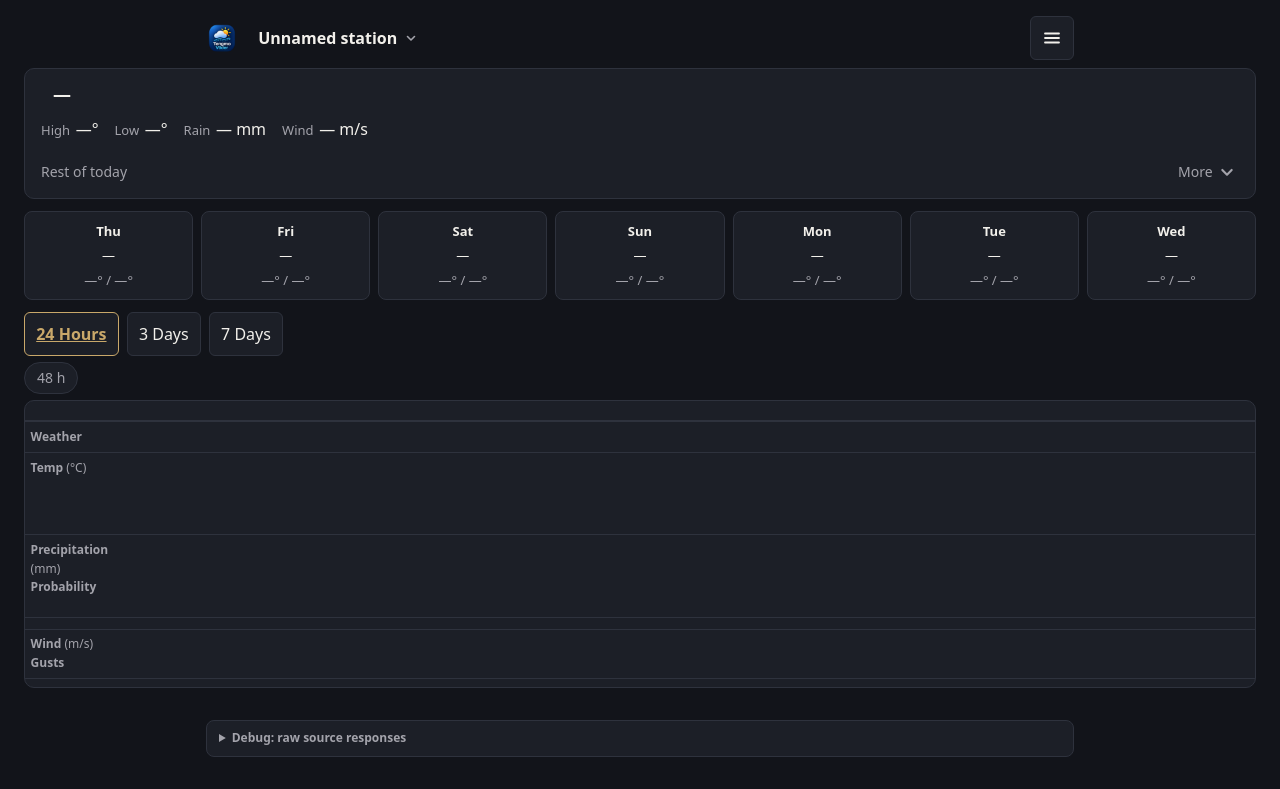
Location Panel (013-overview-default-and-layout, US2) › opens the panel to reveal current-location, favorites, and search together
Click the button with aria-label "Change location".
click(338, 38)  # box [246, 16, 429, 60]
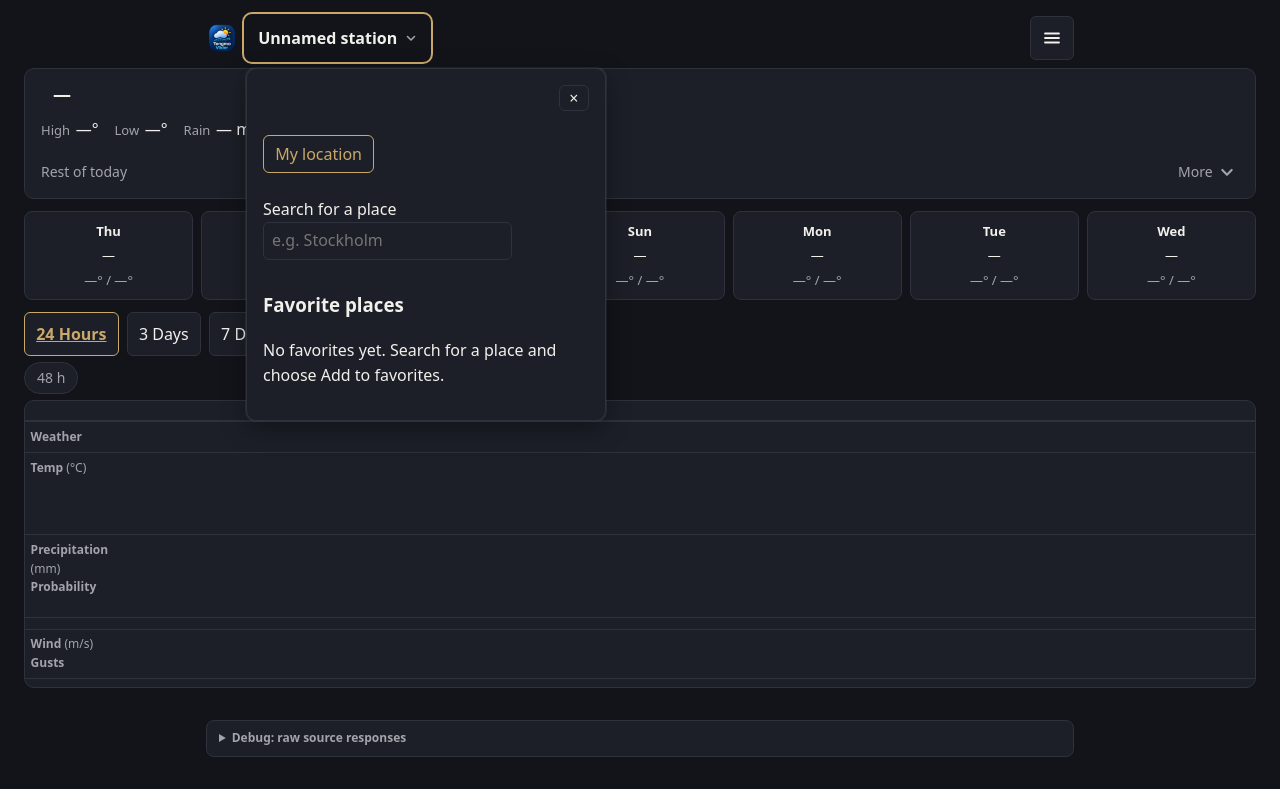
Check: the field labelled "Search for a place" is shown, box [263, 222, 512, 260]
Check: the heading "Favorite places" is shown, box [263, 292, 404, 318]
